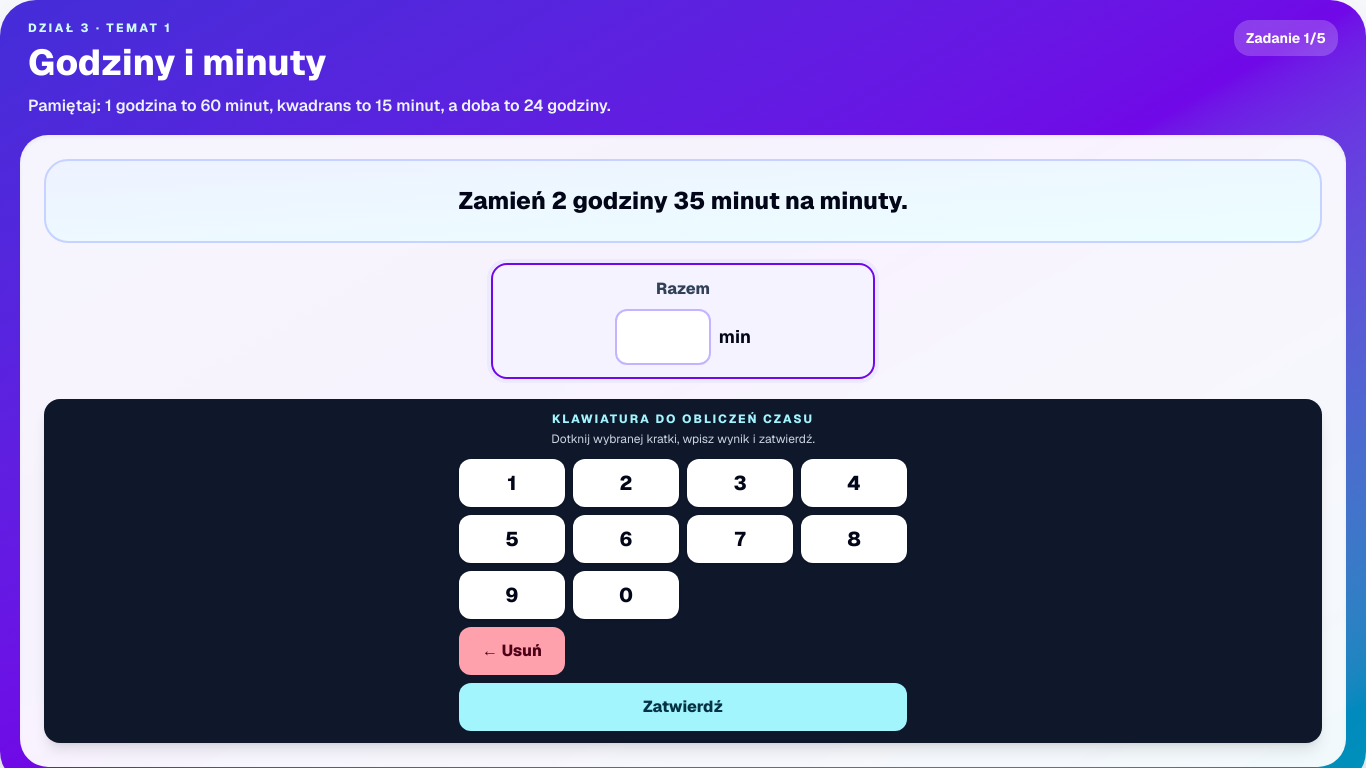
Kalendarz i czas › pola liczbowe nie otwierają klawiatury urządzenia i korzystają z klawiatury lekcji
Click the button "1".
click(512, 483)  # box x1=459 y1=459 x2=565 y2=507
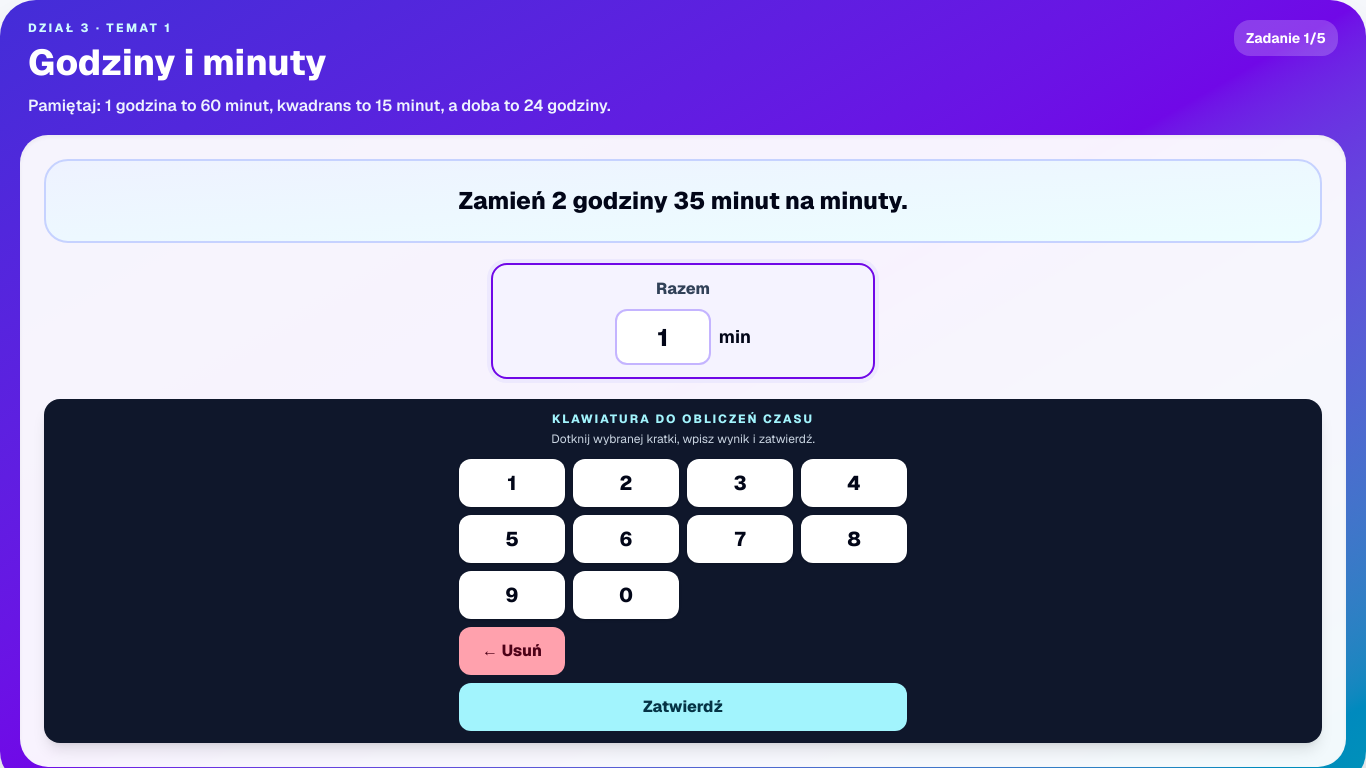
Click the button "5".
click(512, 539)  # box x1=459 y1=515 x2=565 y2=563
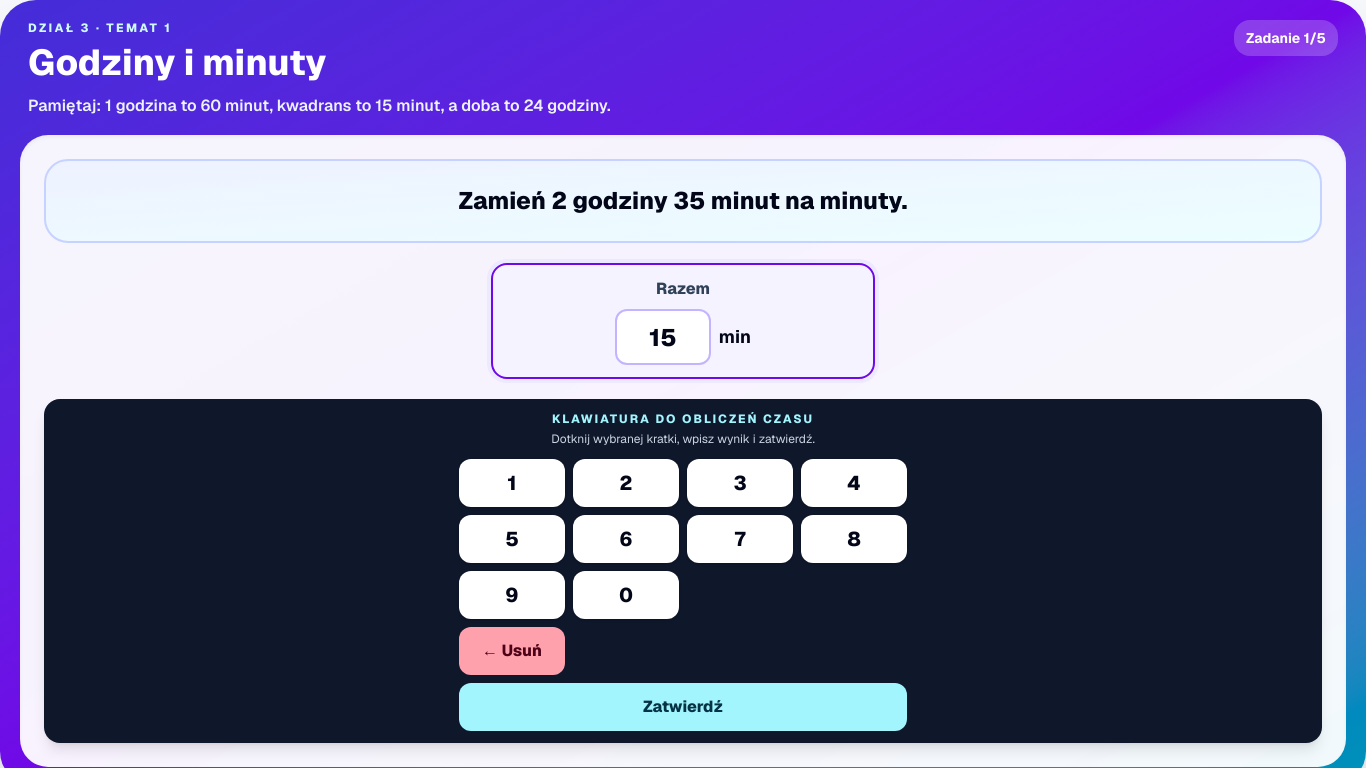
Click the button "5".
click(512, 539)  # box x1=459 y1=515 x2=565 y2=563
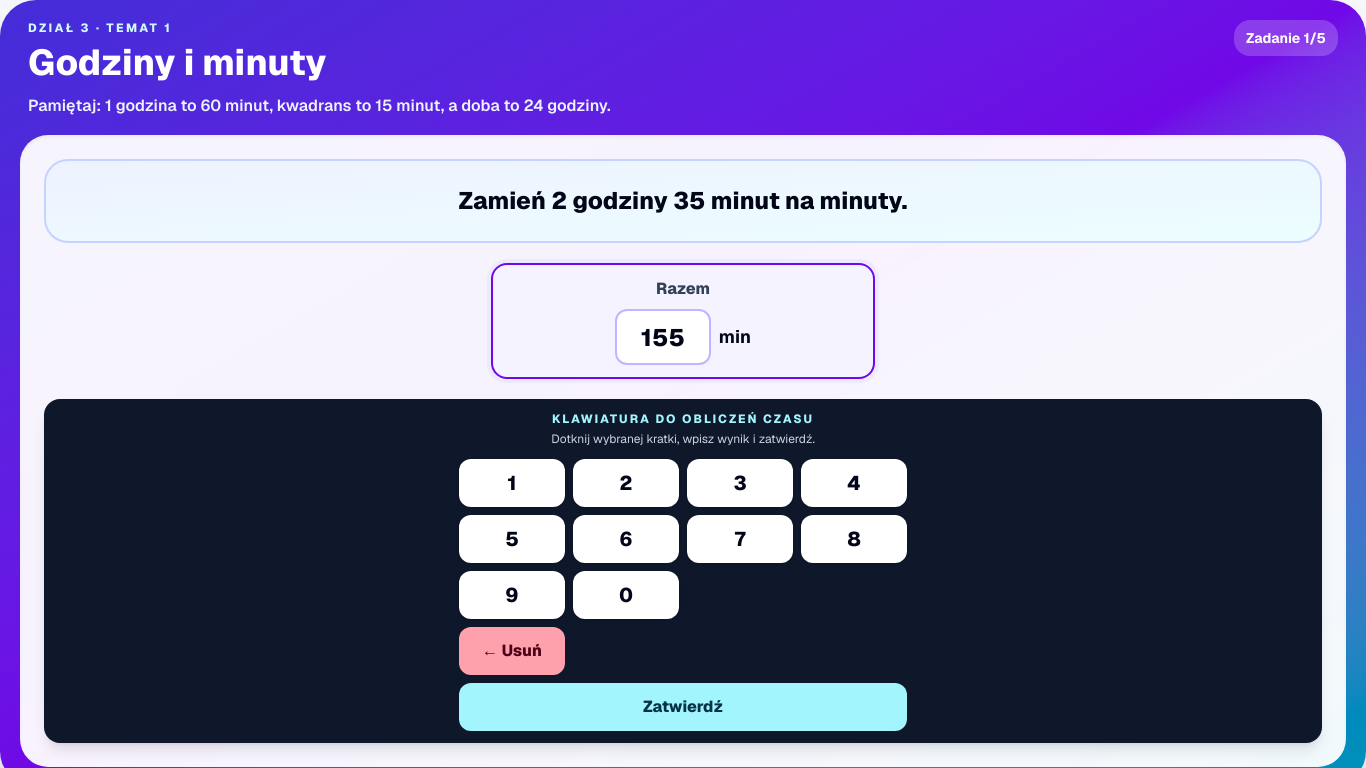
Check: the field labelled "Razem" holds "155", box x1=615 y1=309 x2=711 y2=365
